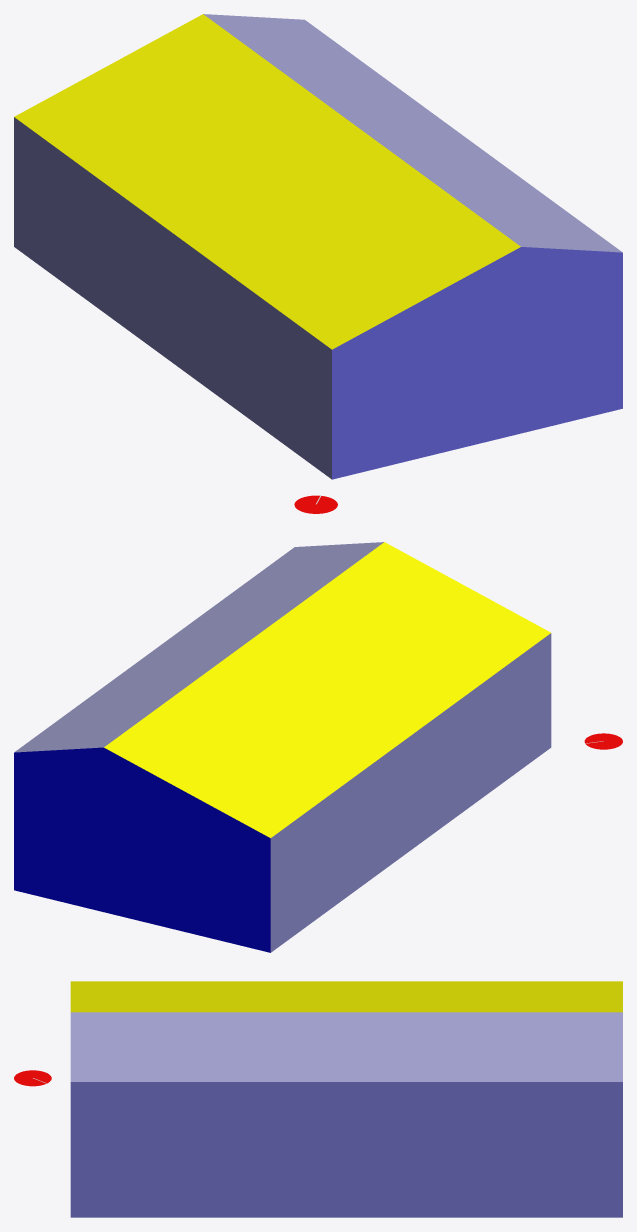
Rendered from result.glb.
The picture shows the model from 3 angles, top to bottom: view 1: azimuth 30°, elevation 25°; view 2: azimuth 150°, elevation 25°; view 3: azimuth 270°, elevation 25°; orthographic projection. The views are drawn at different scales.
Parts seen in each view (by area): view 1: 3f246698-f6ea-4200-943e-28300cb85416__undefined, 54dbf4e3-0c76-4400-a5fd-077b14b73774__undefined, 0642568f-7f54-46cb-922c-c13b3baf6101__undefined, a1d2cc5b-d957-4338-a766-e71838500bc2__undefined; view 2: 3f246698-f6ea-4200-943e-28300cb85416__undefined, f53dc212-beae-45aa-87af-1e5af619e635__undefined, 0642568f-7f54-46cb-922c-c13b3baf6101__undefined, a1d2cc5b-d957-4338-a766-e71838500bc2__undefined; view 3: 1651a397-210d-4de1-9aa2-09b525981c7a__undefined, a1d2cc5b-d957-4338-a766-e71838500bc2__undefined, 3f246698-f6ea-4200-943e-28300cb85416__undefined, d08885c8-3245-466a-842f-efdbb76226cc__Circle.
Boxes of the visible parts, <box> form: 3f246698-f6ea-4200-943e-28300cb85416__undefined: <box>14,14,520,349</box>; 54dbf4e3-0c76-4400-a5fd-077b14b73774__undefined: <box>332,247,622,479</box>; 0642568f-7f54-46cb-922c-c13b3baf6101__undefined: <box>14,117,331,479</box>; a1d2cc5b-d957-4338-a766-e71838500bc2__undefined: <box>203,14,622,252</box>; 3f246698-f6ea-4200-943e-28300cb85416__undefined: <box>104,542,550,838</box>; f53dc212-beae-45aa-87af-1e5af619e635__undefined: <box>14,747,270,952</box>; 0642568f-7f54-46cb-922c-c13b3baf6101__undefined: <box>270,633,551,952</box>; a1d2cc5b-d957-4338-a766-e71838500bc2__undefined: <box>14,542,383,752</box>; 1651a397-210d-4de1-9aa2-09b525981c7a__undefined: <box>70,1082,622,1217</box>; a1d2cc5b-d957-4338-a766-e71838500bc2__undefined: <box>70,1012,622,1081</box>; 3f246698-f6ea-4200-943e-28300cb85416__undefined: <box>70,981,622,1012</box>; d08885c8-3245-466a-842f-efdbb76226cc__Circle: <box>14,1070,51,1086</box>.
Size of the model in its own units: 923 by 474 by 1614.
